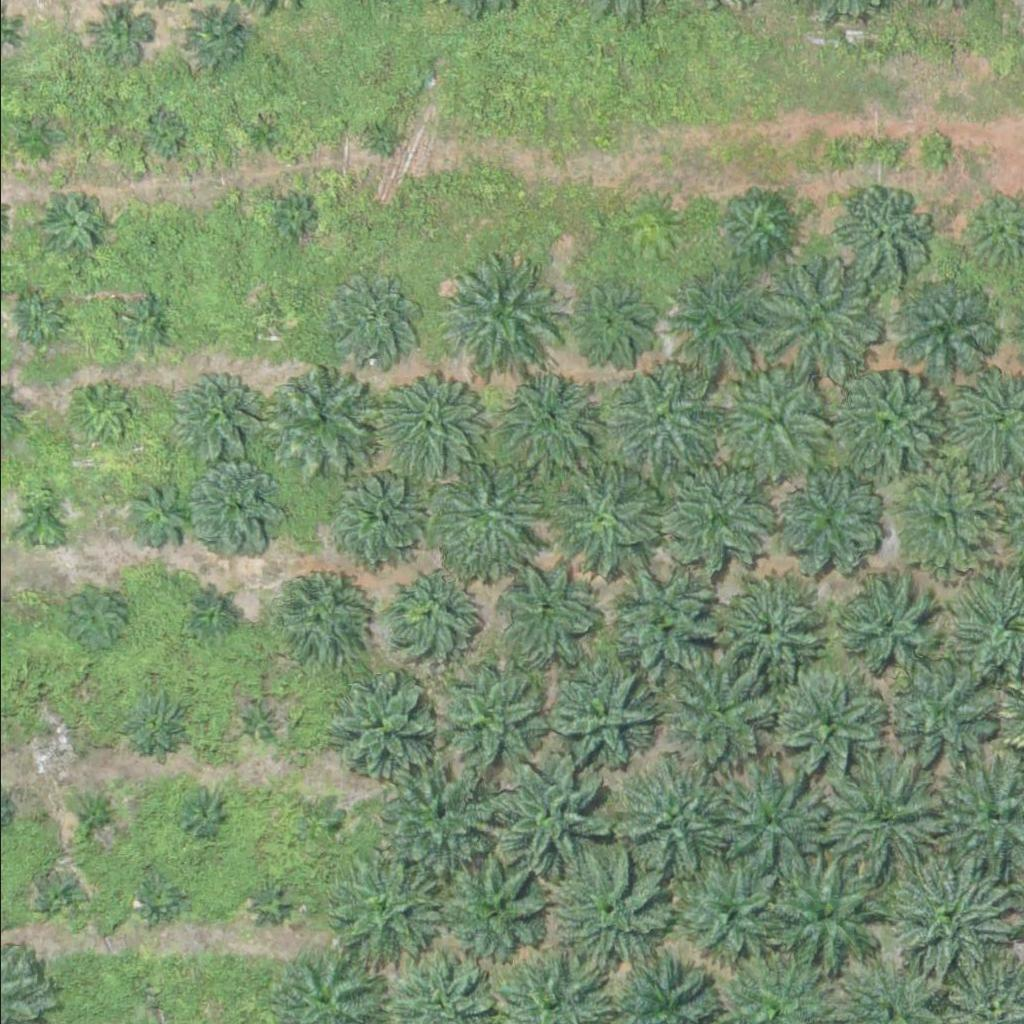Kelapa_Sawit: (885, 848, 1011, 973), (815, 744, 941, 869), (756, 254, 882, 379), (436, 247, 562, 372), (422, 657, 548, 782), (707, 760, 833, 885), (613, 758, 739, 883), (478, 753, 604, 878), (363, 753, 489, 878), (768, 850, 894, 975), (669, 854, 795, 979), (548, 850, 674, 975), (435, 840, 561, 965), (422, 459, 547, 584), (887, 457, 1000, 570), (826, 369, 939, 482), (776, 467, 889, 580), (706, 575, 819, 688), (266, 358, 379, 471), (661, 462, 774, 575), (548, 462, 661, 575), (610, 560, 723, 673), (320, 674, 433, 787), (658, 654, 772, 766), (881, 661, 994, 773), (828, 568, 941, 680), (772, 669, 885, 781), (710, 367, 823, 479), (659, 268, 772, 380), (603, 363, 716, 475), (370, 365, 483, 477), (546, 656, 659, 768), (320, 853, 433, 965), (889, 279, 990, 379), (322, 268, 423, 368), (494, 371, 595, 471), (322, 469, 423, 569), (494, 559, 595, 659), (377, 561, 478, 661), (264, 559, 365, 659), (187, 464, 288, 564), (827, 183, 927, 283), (570, 280, 658, 367), (167, 377, 255, 464), (717, 189, 793, 264), (57, 578, 132, 653), (185, 9, 248, 72), (112, 292, 175, 355), (43, 189, 106, 251), (121, 694, 184, 756), (130, 485, 193, 547), (67, 383, 130, 445), (19, 491, 70, 541), (72, 791, 123, 841), (13, 290, 63, 340), (182, 789, 232, 839), (35, 875, 85, 925), (245, 878, 295, 928), (134, 874, 184, 924), (230, 694, 280, 744), (299, 797, 349, 847), (146, 114, 184, 152), (244, 118, 282, 156), (363, 119, 401, 157), (20, 121, 58, 159), (912, 133, 950, 170), (189, 596, 226, 634), (251, 304, 288, 342), (270, 200, 308, 237), (44, 721, 69, 746), (133, 231, 158, 256)
